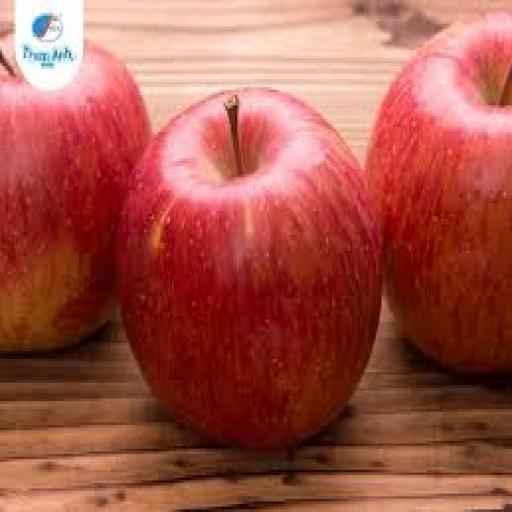apple: (117, 90, 381, 448), (366, 14, 511, 372), (0, 37, 150, 351)
